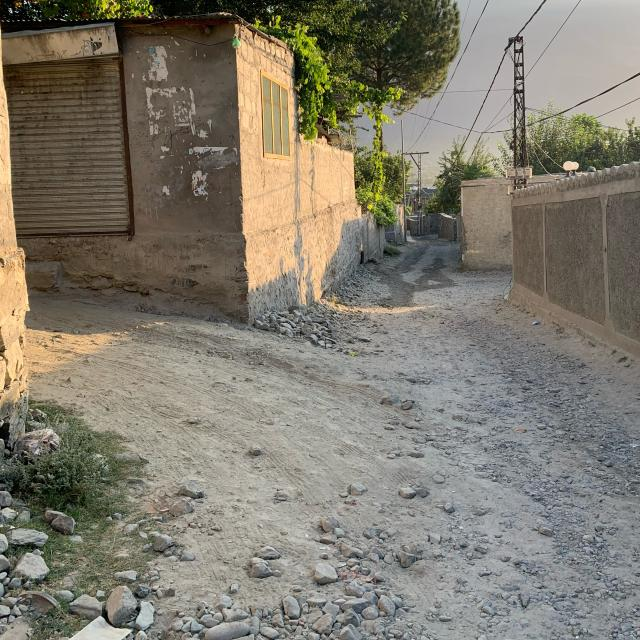Left-Turn: (52, 291, 483, 591)
Right-Turn: (421, 266, 514, 321)
straight: (369, 228, 443, 396)
